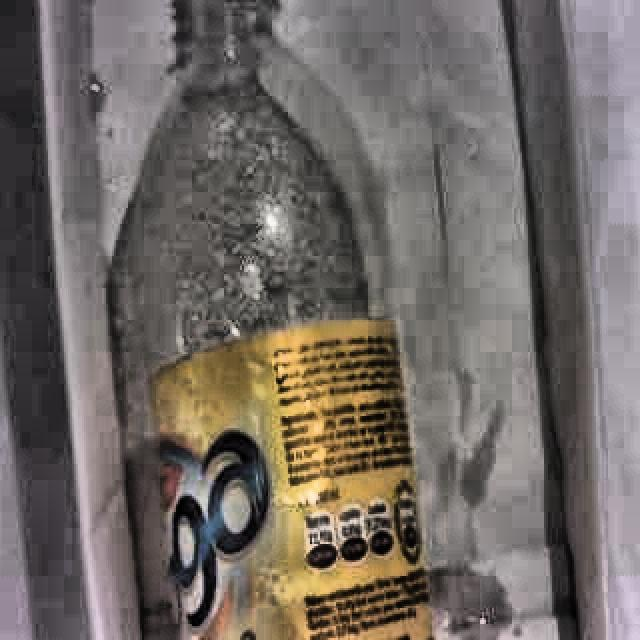plastic: (84, 0, 494, 640)
